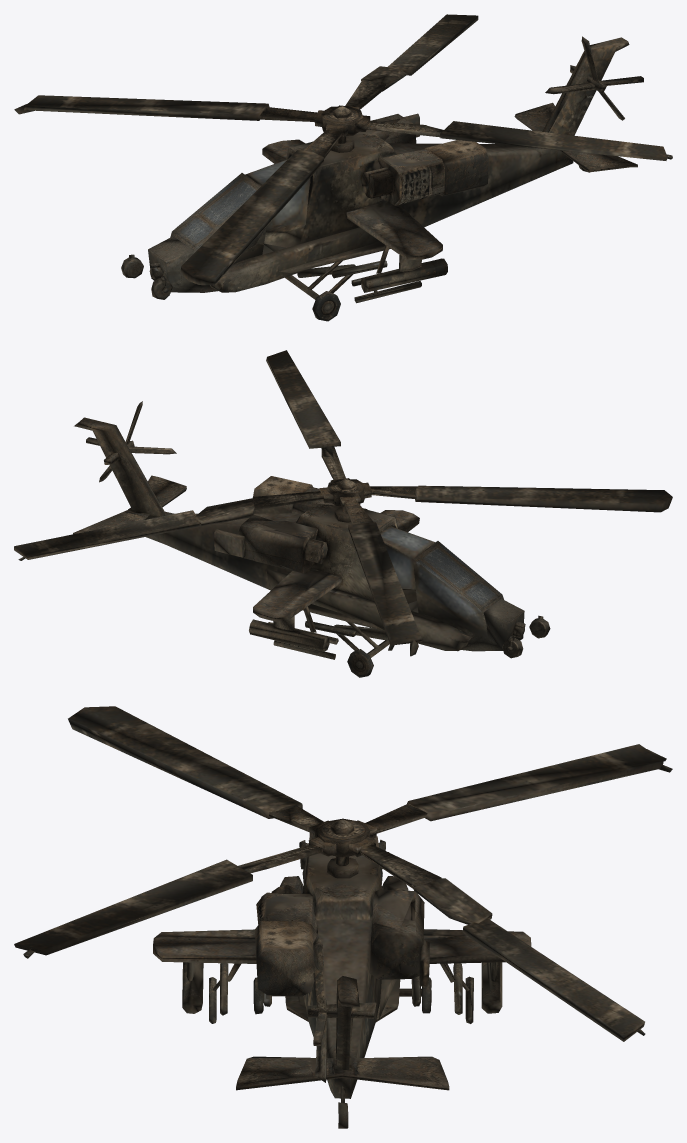
The model's file is Meshy_AI_Rusted_Apache_0831101532_texture.fbx.
3 views of the same model, one above another, from view 1: azimuth 30°, elevation 25°; view 2: azimuth 150°, elevation 25°; view 3: azimuth 270°, elevation 25° (orthographic). The views are drawn at different scales.
Parts seen in each view (by area): view 1: mesh_node; view 2: mesh_node; view 3: mesh_node.
Part boxes in pixels (x1,y1,x2,y2): mesh_node: (14,14,672,321); mesh_node: (14,350,672,677); mesh_node: (14,706,672,1128).
Size of the model in its own units: 100 by 35.16 by 83.79.
1 material, 1 textured.
